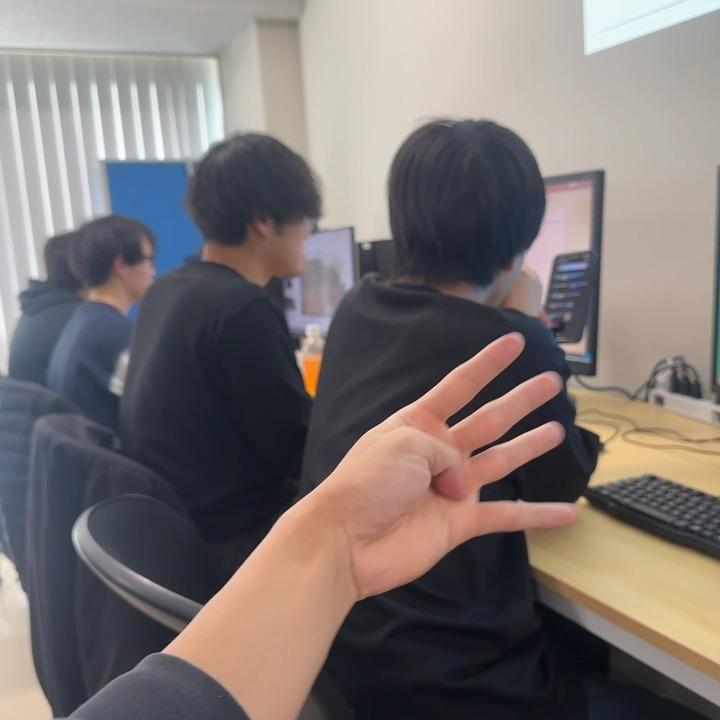without_gloves: (281, 251, 583, 669)
